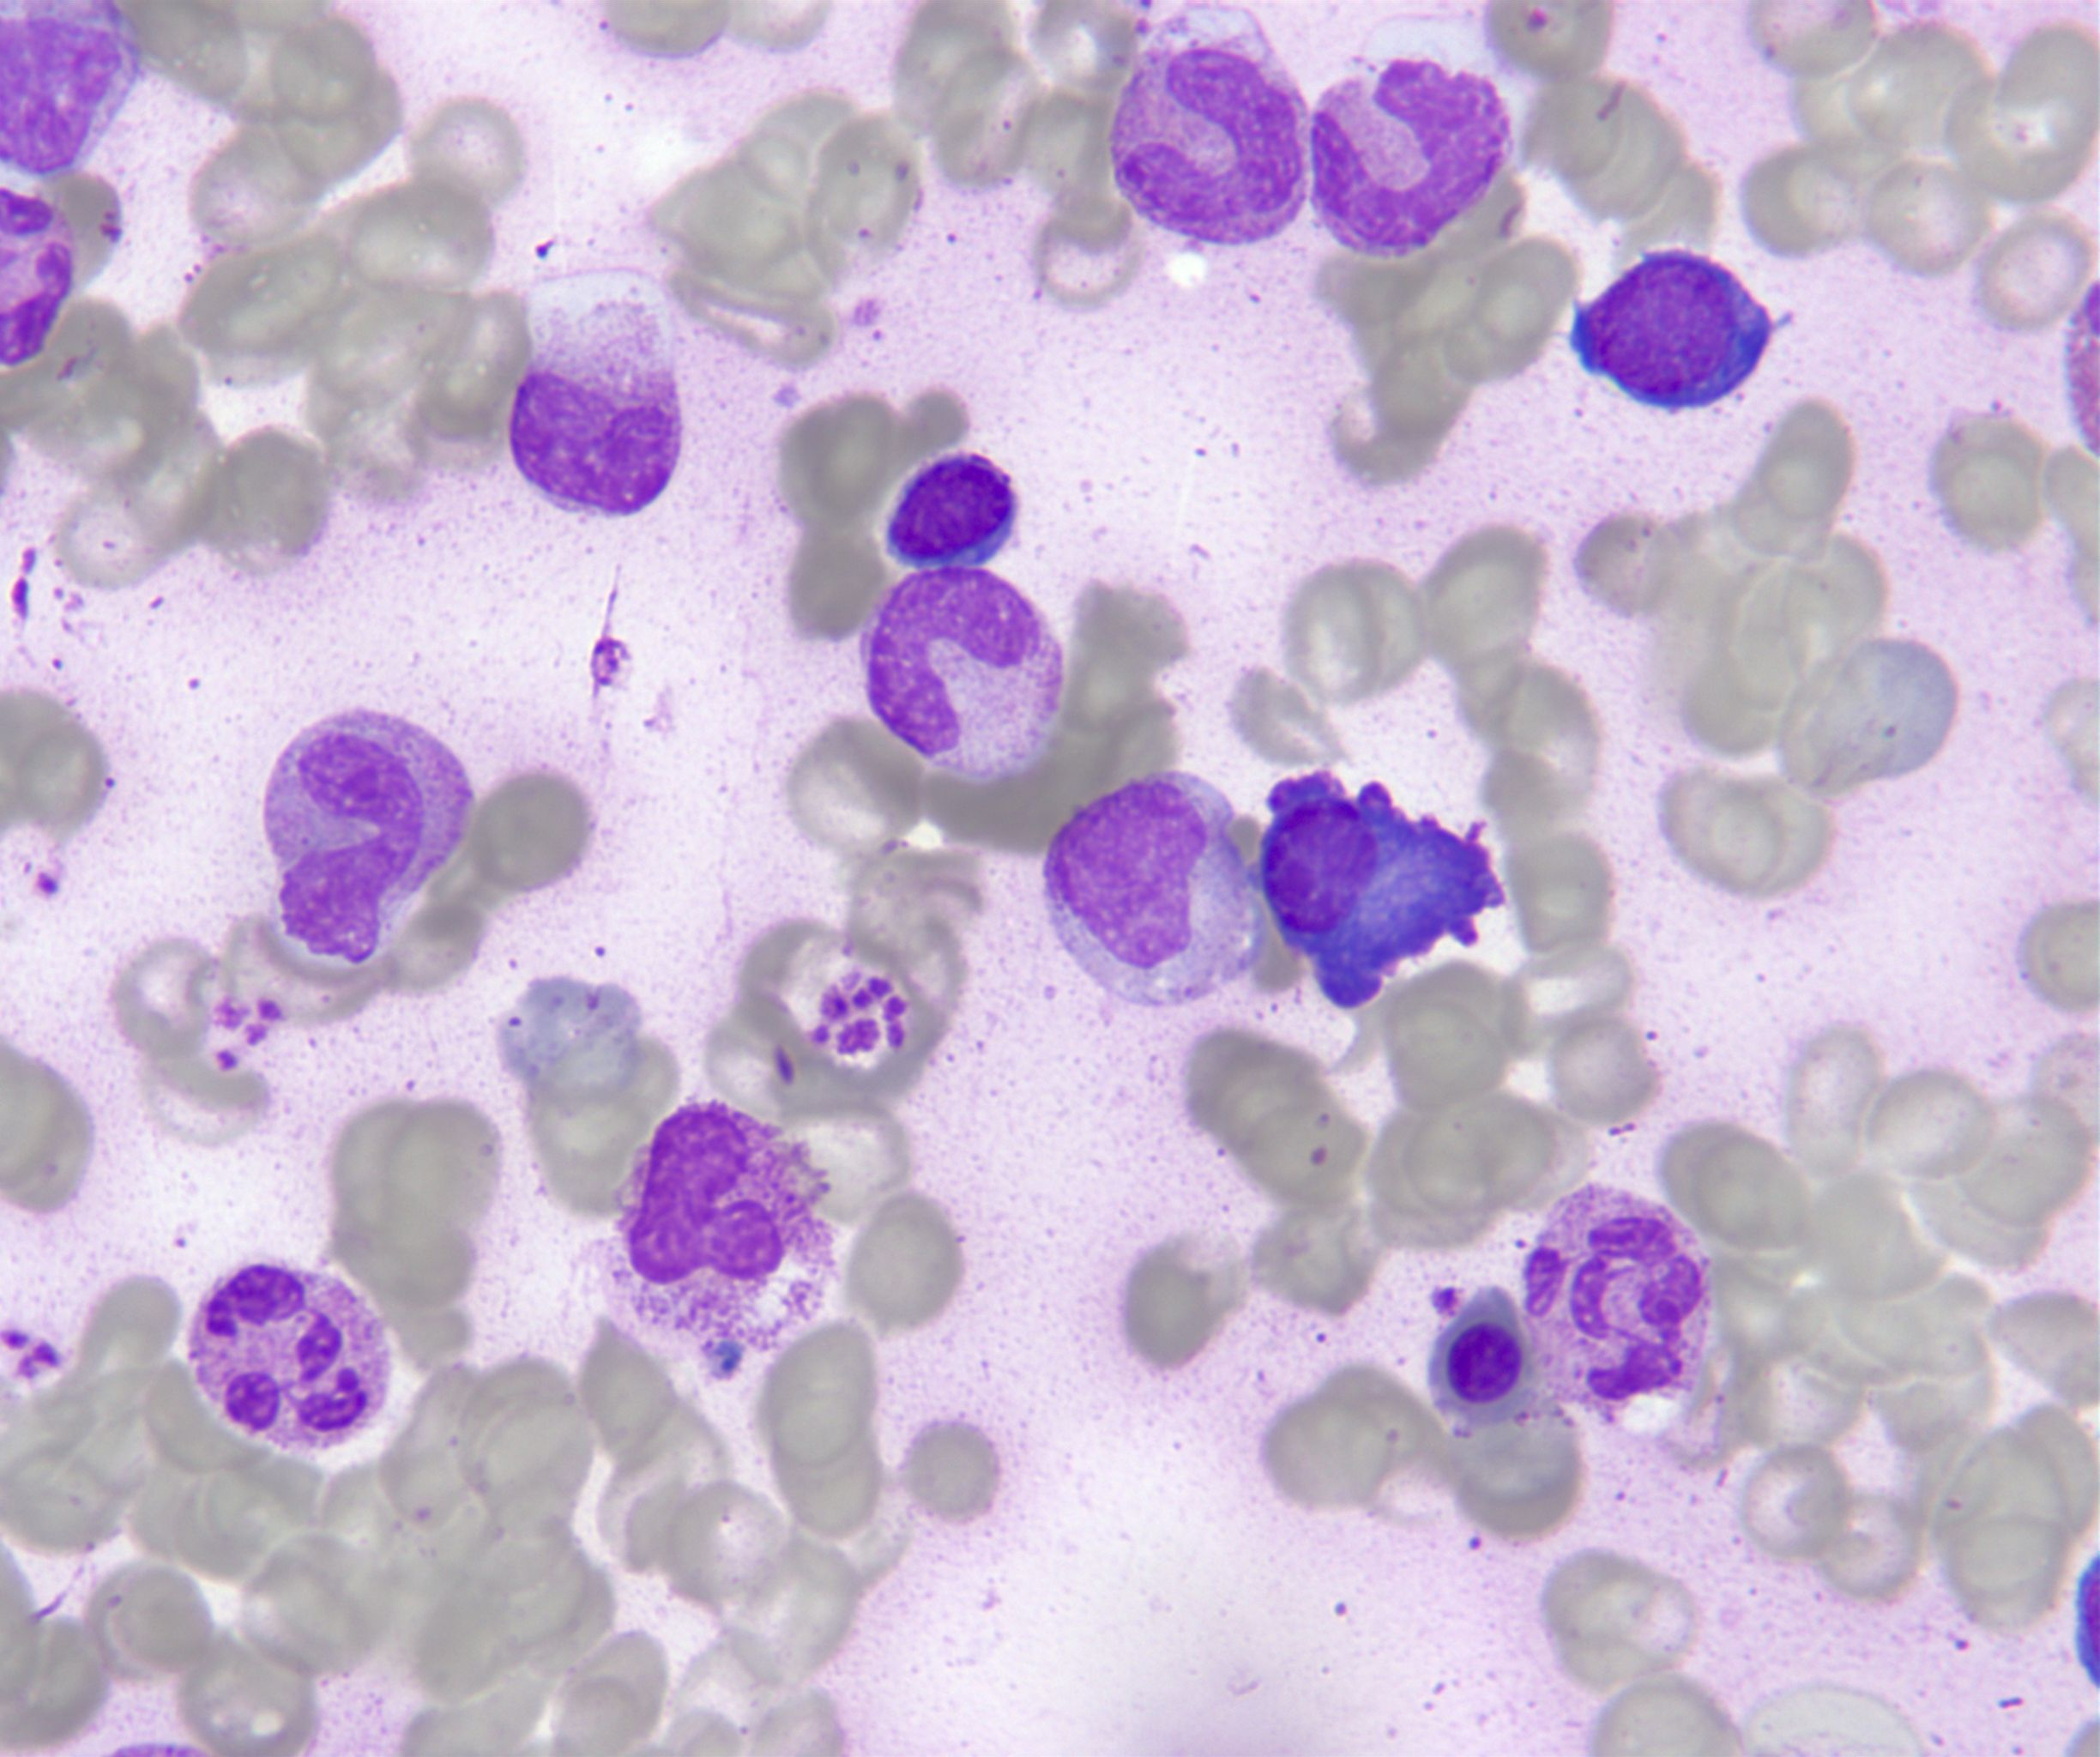23: (1570, 250, 1779, 412)
24: (1428, 1288, 1535, 1431)
32: (884, 450, 1019, 569)
42: (1045, 773, 1263, 1007)
5: (263, 710, 473, 965), (1109, 3, 1310, 246), (862, 565, 1066, 782), (1312, 56, 1512, 260)
52: (1249, 775, 1505, 1008)
6: (1523, 1183, 1709, 1422), (188, 1260, 392, 1446)
x: (595, 1103, 837, 1349), (509, 300, 682, 518)
